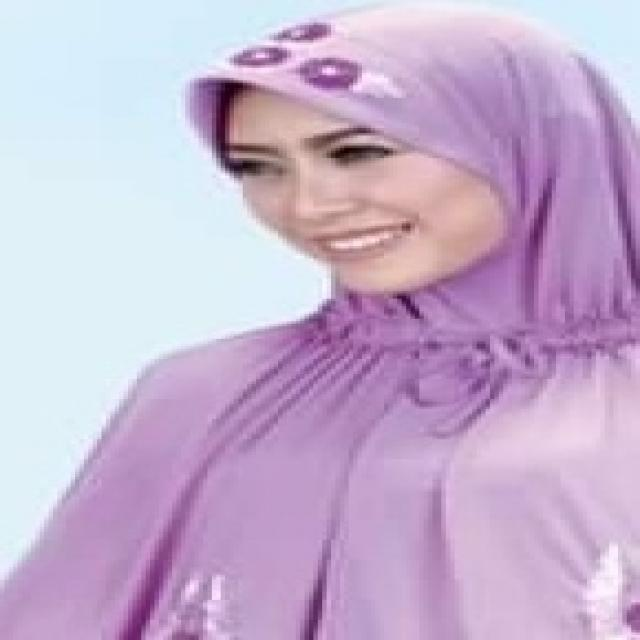head: (173, 14, 579, 295)
